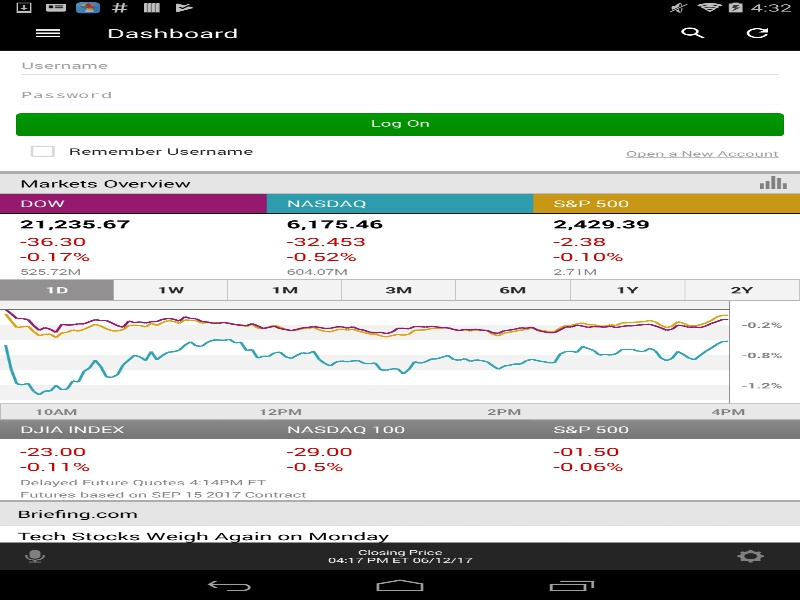Button: (16, 113, 784, 136), (266, 194, 533, 213), (533, 194, 800, 213), (0, 194, 266, 213), (10, 15, 85, 50)
Input: (16, 56, 784, 80), (16, 86, 784, 109)
